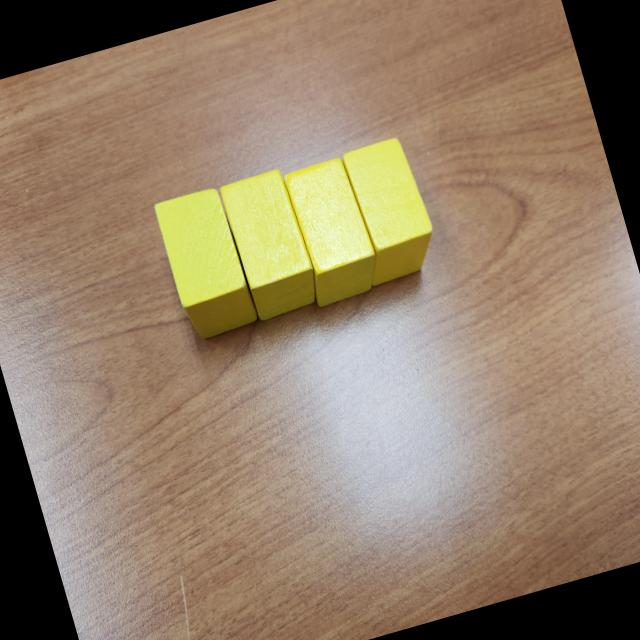yellow: (332, 132, 445, 288), (152, 184, 260, 344), (217, 166, 324, 324), (279, 156, 385, 310)
